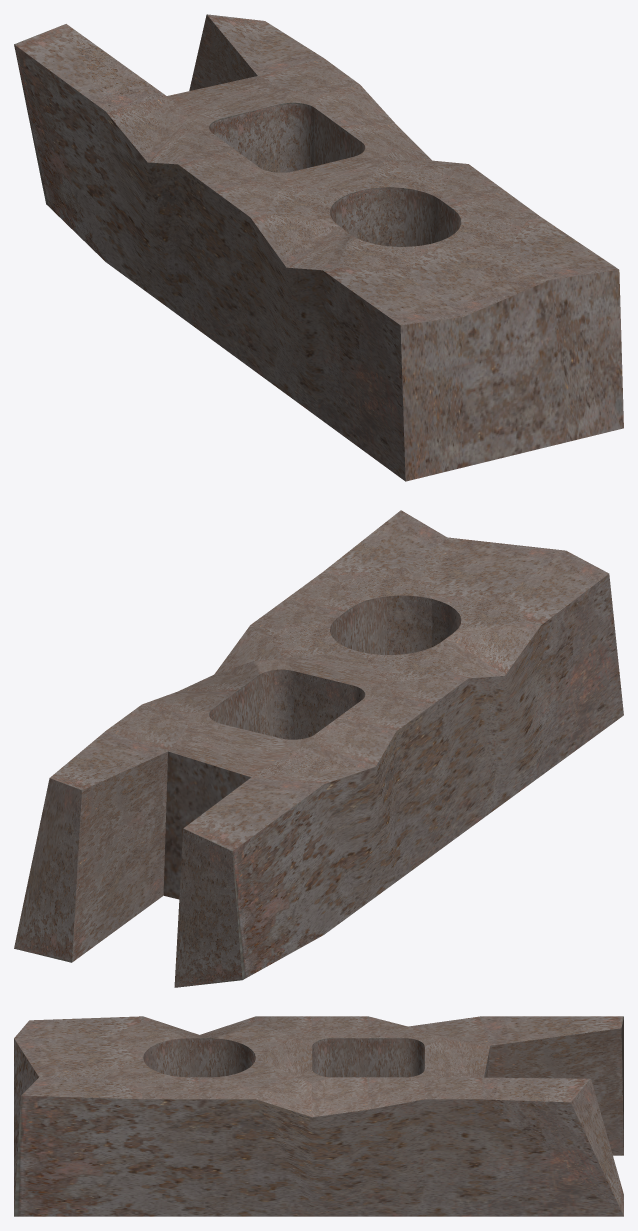
The model's file is enginepart1.fbx.
3 renders of one model, top to bottom at view 1: azimuth 30°, elevation 25°; view 2: azimuth 150°, elevation 25°; view 3: azimuth 270°, elevation 25°, orthographic. The views are drawn at different scales.
Visible parts, largest first — view 1: enginepart1; view 2: enginepart1; view 3: enginepart1.
Boxes of the visible parts, <box> form: enginepart1: <box>14,14,623,481</box>; enginepart1: <box>14,510,623,987</box>; enginepart1: <box>14,1016,623,1216</box>.
Size of the model in its own units: 62.66 by 42.9 by 190.
Materials: 1 (1 with a texture image).
